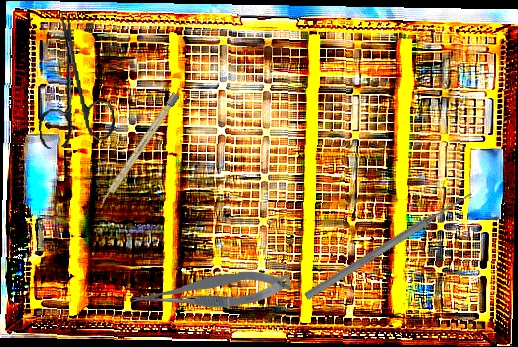Iris Scissors: (25, 10, 118, 150)
Micro Scissor: (131, 269, 291, 311)
Pusher: (302, 187, 477, 303)
Scalpel Handle: (98, 92, 180, 208)
